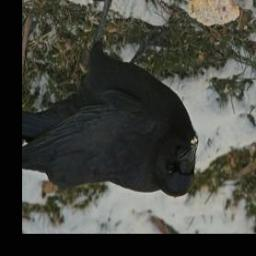Crow: (23, 0, 199, 198)
